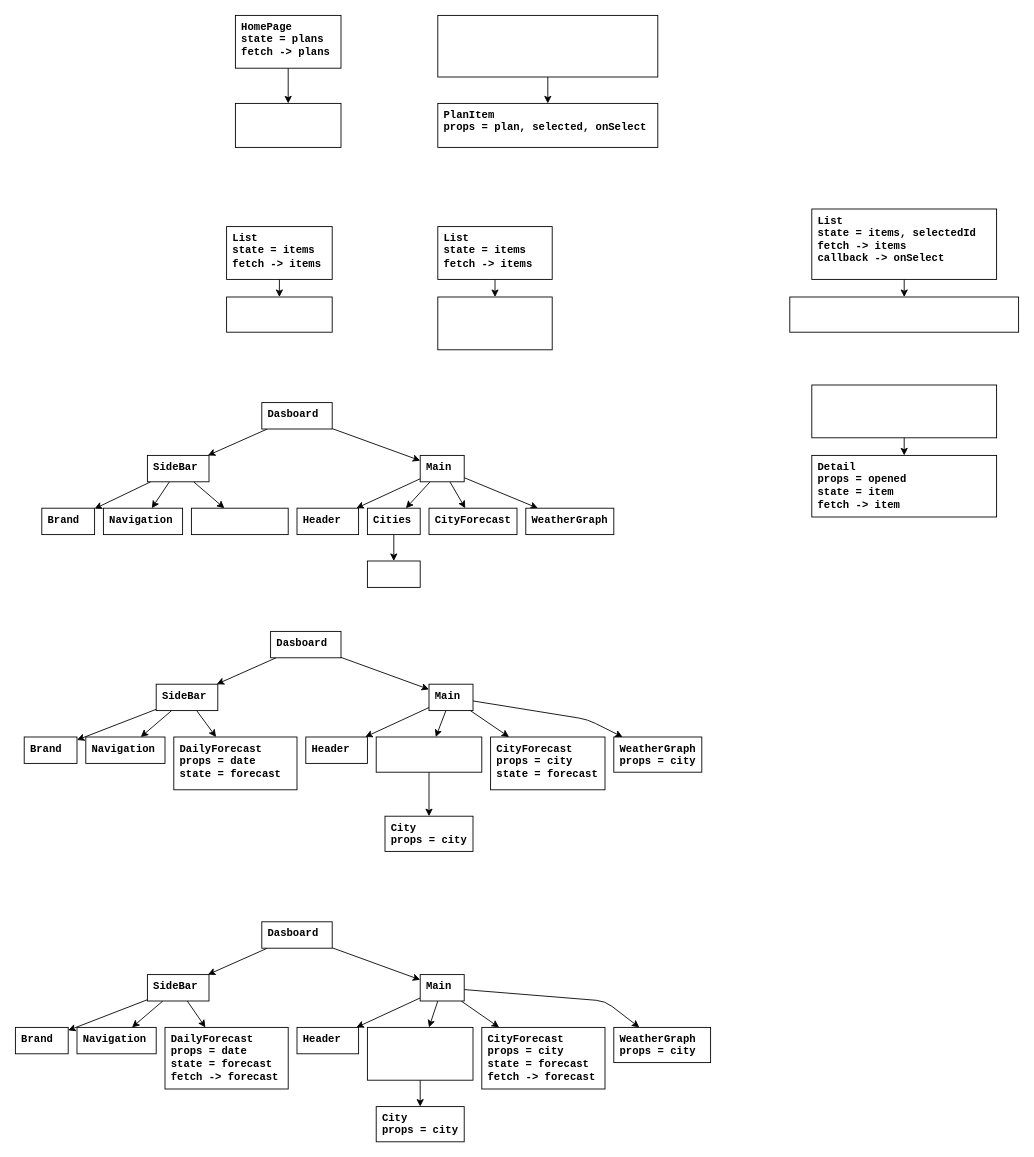
The diagram is 1034 pixels wide and 1157 high, and some of its shapes have lost their labels. Each missing label, with the centre of its shape:
Cities state = cities: (428,754)
Cities state = cities fetch -> cities: (420,1053)
City: (393,573)
DailyForecast: (239,521)
HomePage state = plans, selected fetch -> plans callback -> selected: (547,46)
ListItem props = item: (279,314)
ListItem props = item state = selected: (494,323)
ListItem props = item, selected, onSelect: (904,314)
Main state = opened event -> opened: (904,411)
PlanItem props = plan: (288,125)
